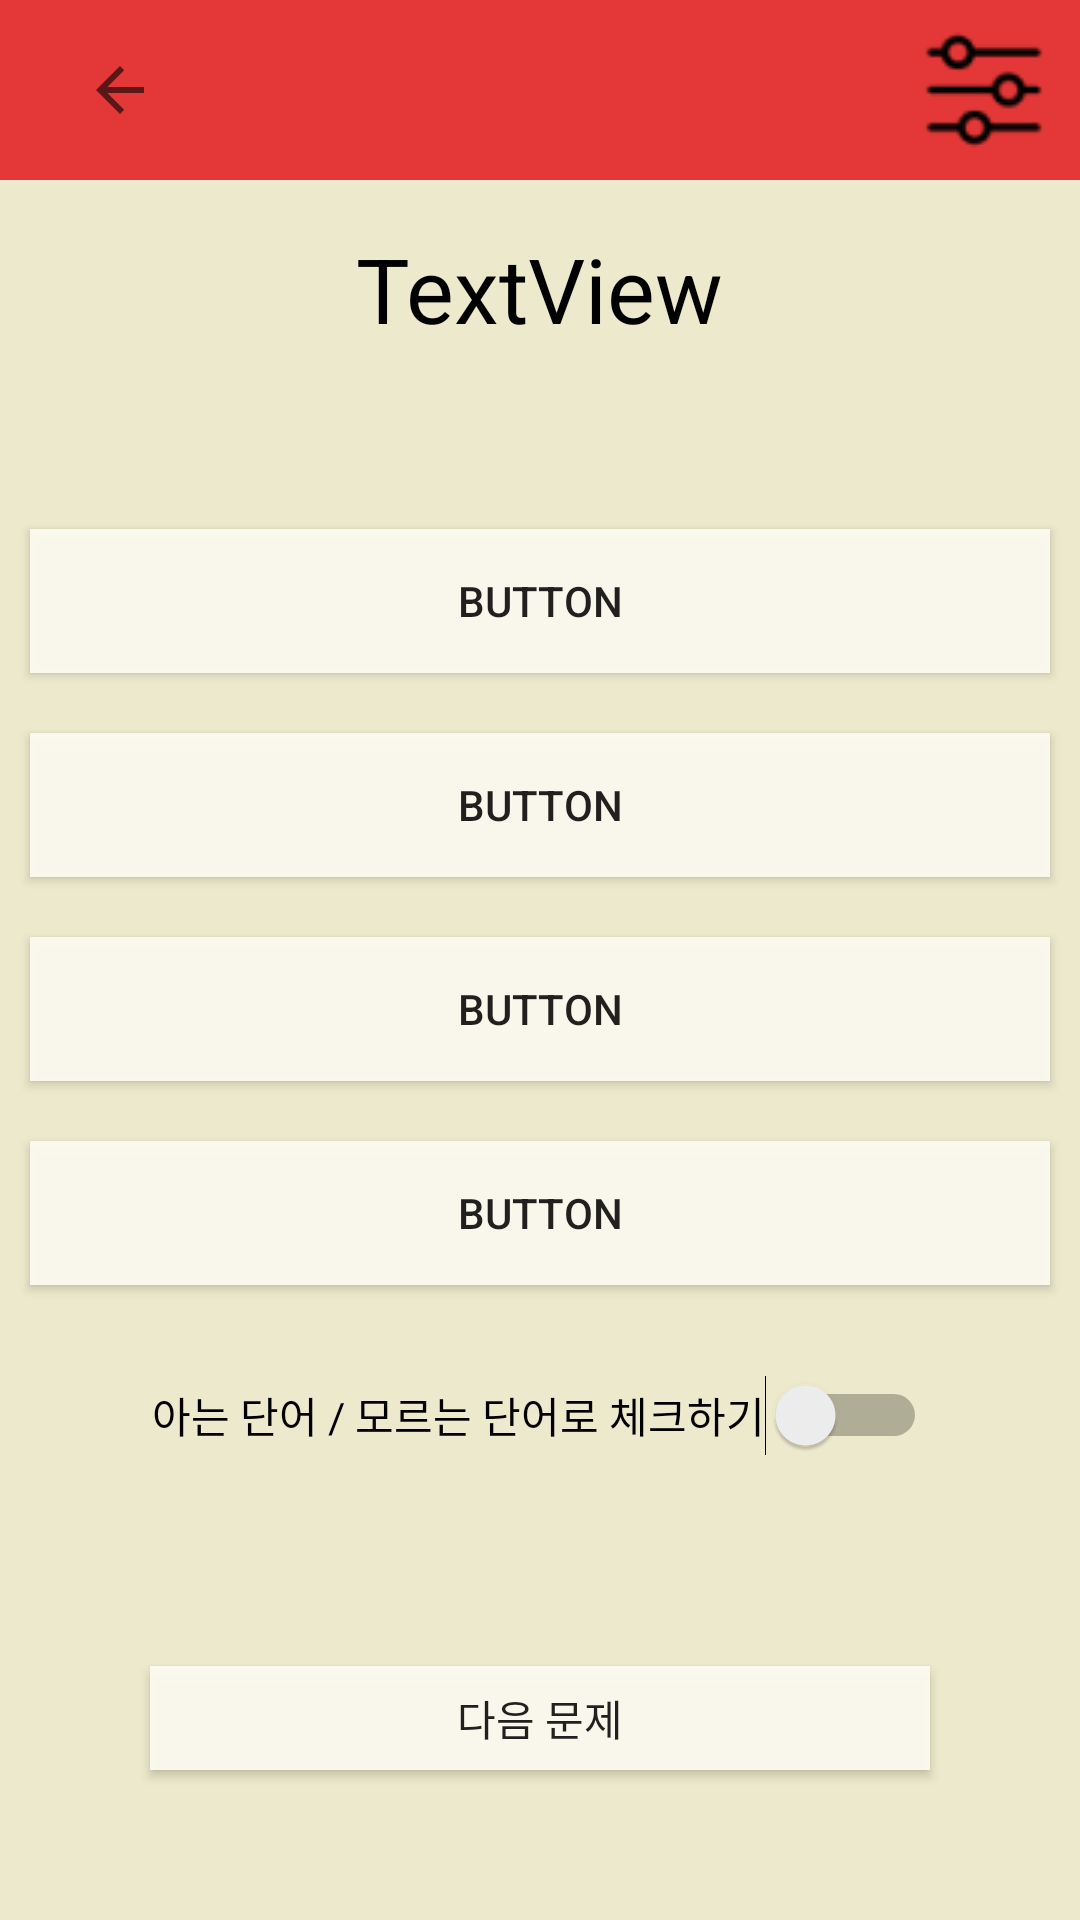

Icons on this 1080*1920 Android screen, each with the point to tap as (x=x, y=y):
setting: (x=984, y=90)
